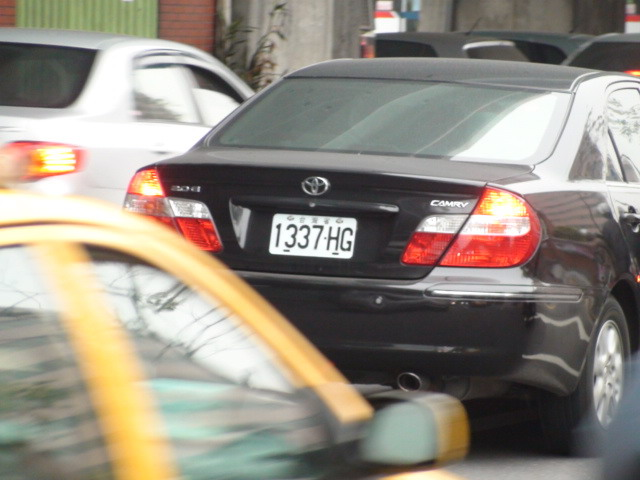plate: (269, 209, 357, 261)
